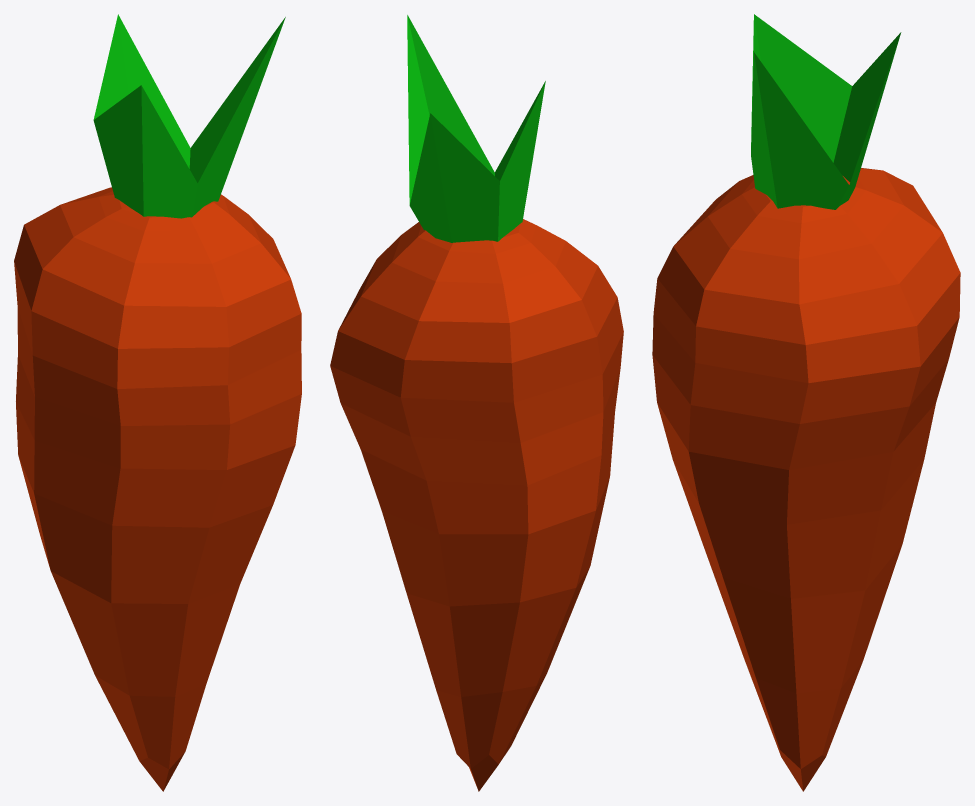
The model's file is carrot_growth_2_var1.obj.
3 views of the same model, side by side, from view 1: azimuth 30°, elevation 25°; view 2: azimuth 150°, elevation 25°; view 3: azimuth 270°, elevation 25° (orthographic). The views are drawn at different scales.
Parts seen in each view (by area): view 1: carrotbody, carrotleaves; view 2: carrotbody, carrotleaves; view 3: carrotbody, carrotleaves.
Boxes of the visible parts, x1,y1,x2,y2 form: carrotbody: (14, 187, 301, 791); carrotleaves: (93, 14, 285, 218); carrotbody: (330, 219, 623, 791); carrotleaves: (407, 15, 545, 242); carrotbody: (652, 168, 960, 791); carrotleaves: (751, 14, 901, 209).
Size of the model in its own units: 1.35 by 3.88 by 1.37.
